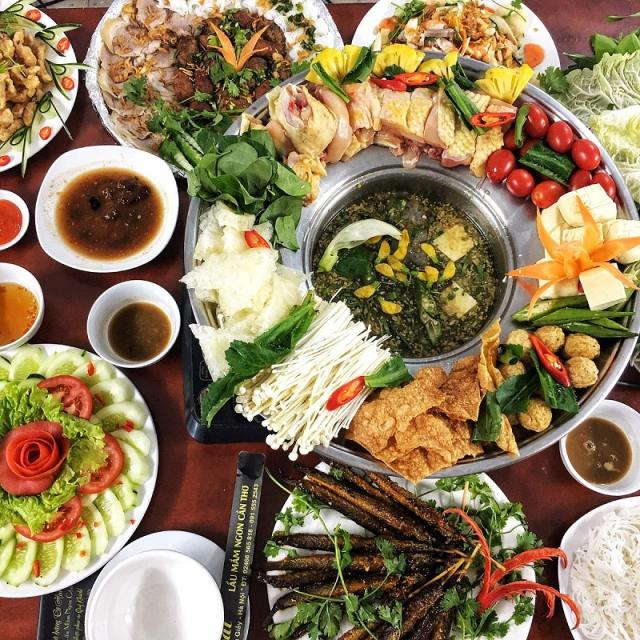ca nuong: (202, 430, 562, 640)
lau ga: (183, 43, 640, 484)
salad: (0, 342, 167, 598)
